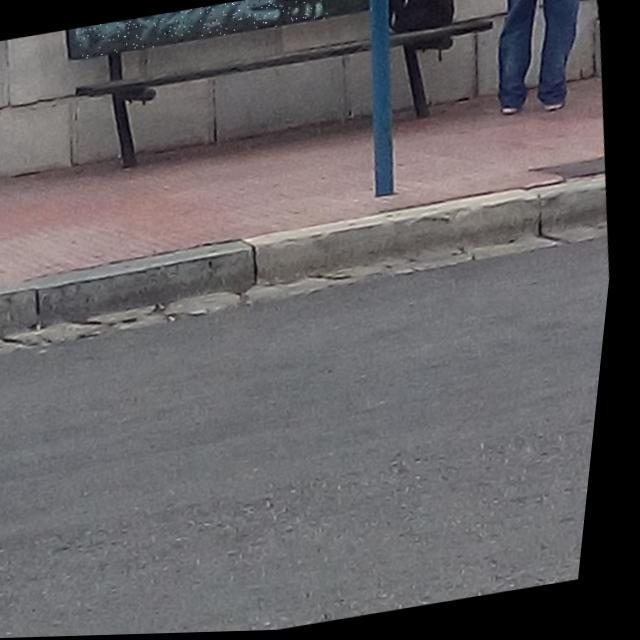-: (74, 0, 330, 60)
